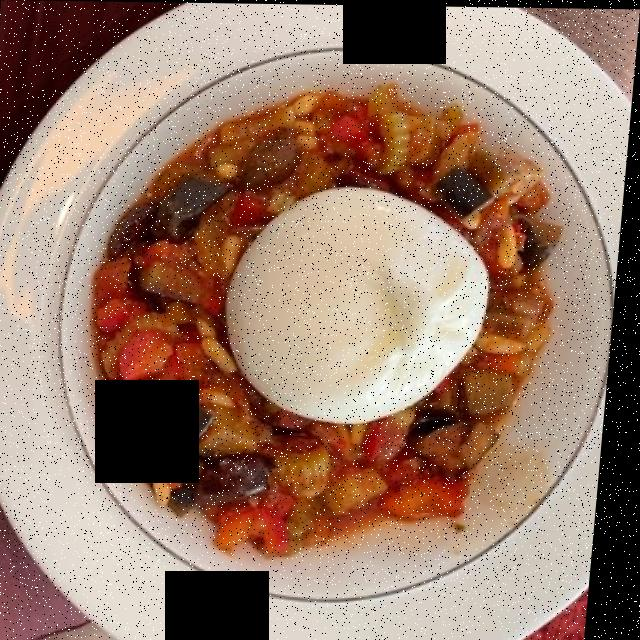ratatouille: (105, 89, 558, 550)
